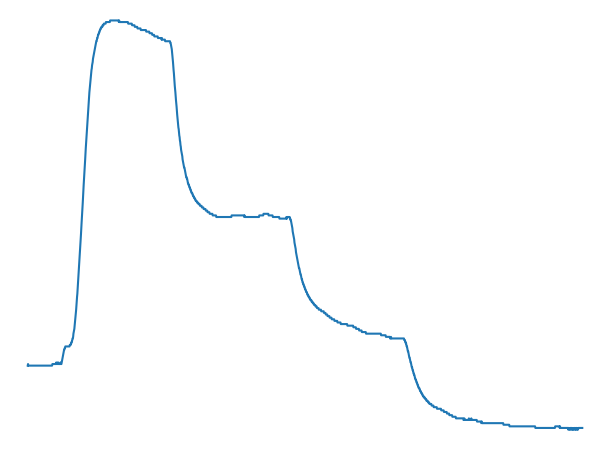decrease: (275, 209, 297, 228), (392, 330, 412, 349), (163, 33, 178, 52)
increase: (49, 353, 69, 372)
